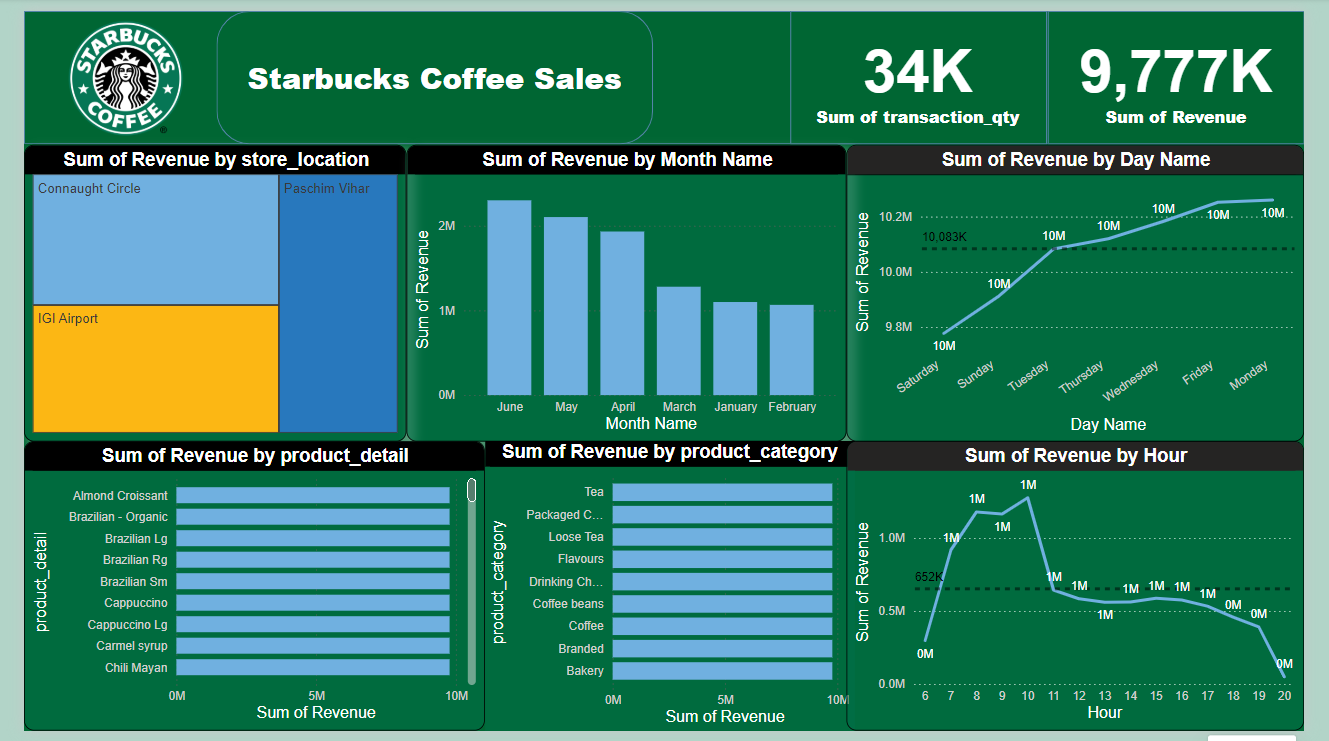

This screenshot's page, from the dashboard's own definition file:
{"tool":"powerbi","page":{"name":"Page 1","canvas":[1280,720],"ordinal":0},"visuals":[{"type":"shape","box":[0,0,1280.3,133.1],"z":0},{"type":"shape","box":[766.7,0,256.8,133.3],"z":1000},{"type":"shape","box":[1023.5,0,256.8,133.3],"z":2000},{"type":"shape","box":[192,0,436.6,133.3],"z":5000},{"type":"image","box":[0,1.2,204.2,132.1],"z":6000},{"type":"card","fields":{"Values":["Sum(Orders_Table.transaction_qty)"]},"box":[765.5,0,258,133.3],"z":7000},{"type":"card","fields":{"Values":["Sum(Orders_Table.Revenue)"]},"box":[1023.5,0,256.8,133.3],"z":8000},{"type":"treemap","fields":{"Values":["Sum(Orders_Table.Revenue)"],"Group":["Orders_Table.store_location"]},"box":[0,133.3,382.7,297.1],"z":10000},{"type":"lineStackedColumnComboChart","fields":{"Y":["Sum(Orders_Table.Revenue)"],"Category":["Orders_Table.Month Name"]},"box":[382.7,133.3,440.2,297.1],"z":11000},{"type":"lineChart","fields":{"Y":["Sum(Orders_Table.Revenue)"],"Category":["Orders_Table.Day Name"]},"box":[823,133.3,457.3,297.1],"z":12000},{"type":"clusteredBarChart","fields":{"Category":["Products_Table.product_detail"],"Y":["Sum(Orders_Table.Revenue)"]},"box":[0,430.4,461,289.8],"z":13000},{"type":"clusteredBarChart","fields":{"Y":["Sum(Orders_Table.Revenue)"],"Category":["Products_Table.product_category"]},"box":[461,430.4,369.3,289.8],"z":14000},{"type":"lineChart","fields":{"Y":["Sum(Orders_Table.Revenue)"],"Category":["Orders_Table.Hour"]},"box":[823,430.4,457.3,289.8],"z":15000}]}

Visuals, with their boxes in screenshot pixels (x1, y1, x2, y2), scaled from the page's 1280x720 canvas onto the 1329x741 screenshot:
shape: x1=0 y1=0 x2=1328 y2=137
shape: x1=796 y1=0 x2=1063 y2=137
shape: x1=1063 y1=0 x2=1328 y2=137
shape: x1=199 y1=0 x2=653 y2=137
image: x1=0 y1=1 x2=212 y2=137
card - Sum(Orders_Table.transaction_qty): x1=795 y1=0 x2=1063 y2=137
card - Sum(Orders_Table.Revenue): x1=1063 y1=0 x2=1328 y2=137
treemap - Sum(Orders_Table.Revenue) x Orders_Table.store_location: x1=0 y1=137 x2=397 y2=443
lineStackedColumnComboChart - Sum(Orders_Table.Revenue) x Orders_Table.Month Name: x1=397 y1=137 x2=854 y2=443
lineChart - Sum(Orders_Table.Revenue) x Orders_Table.Day Name: x1=855 y1=137 x2=1328 y2=443
clusteredBarChart - Products_Table.product_detail x Sum(Orders_Table.Revenue): x1=0 y1=443 x2=479 y2=740
clusteredBarChart - Sum(Orders_Table.Revenue) x Products_Table.product_category: x1=479 y1=443 x2=862 y2=740
lineChart - Sum(Orders_Table.Revenue) x Orders_Table.Hour: x1=855 y1=443 x2=1328 y2=740
